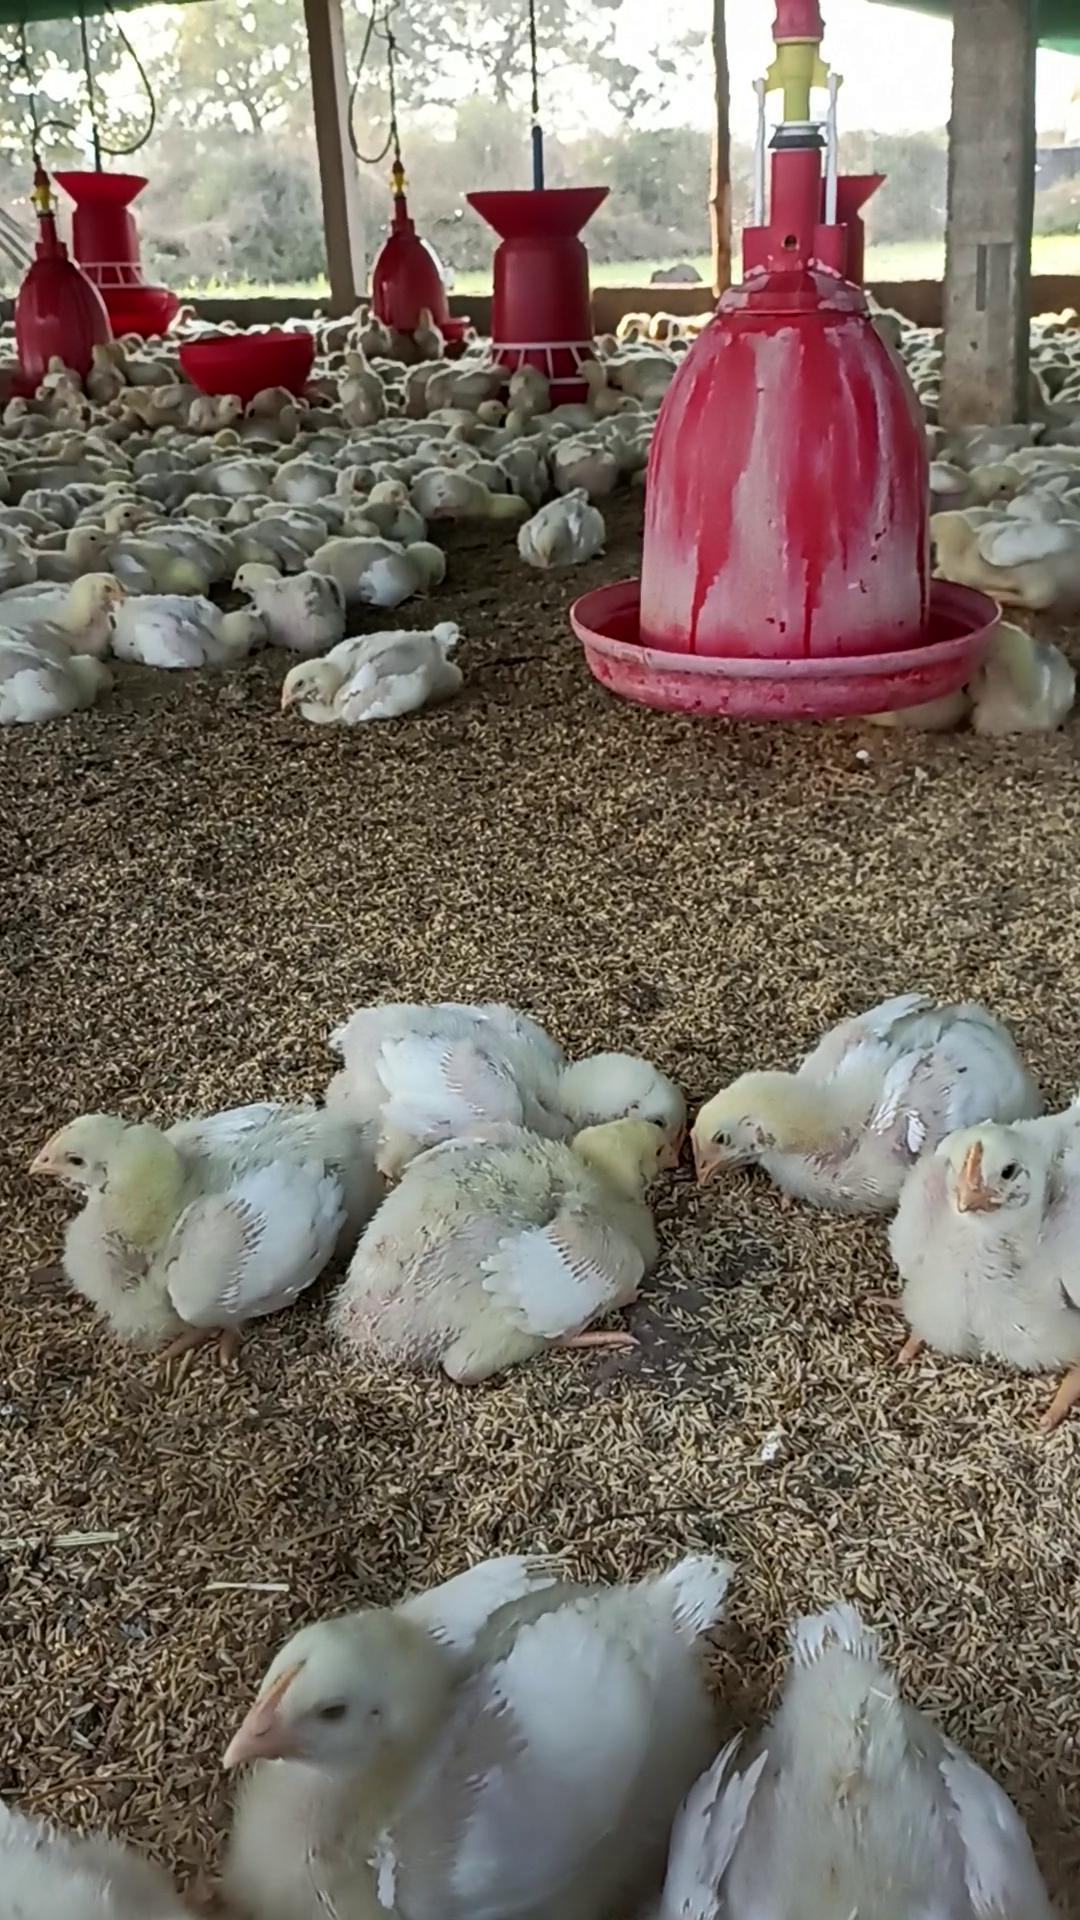Pollos: (222, 1522, 727, 1920), (348, 1114, 680, 1367), (34, 1095, 348, 1321), (696, 982, 1004, 1192), (887, 1120, 1079, 1352), (280, 609, 464, 725), (3, 568, 125, 669), (235, 558, 348, 646), (517, 489, 603, 571)
